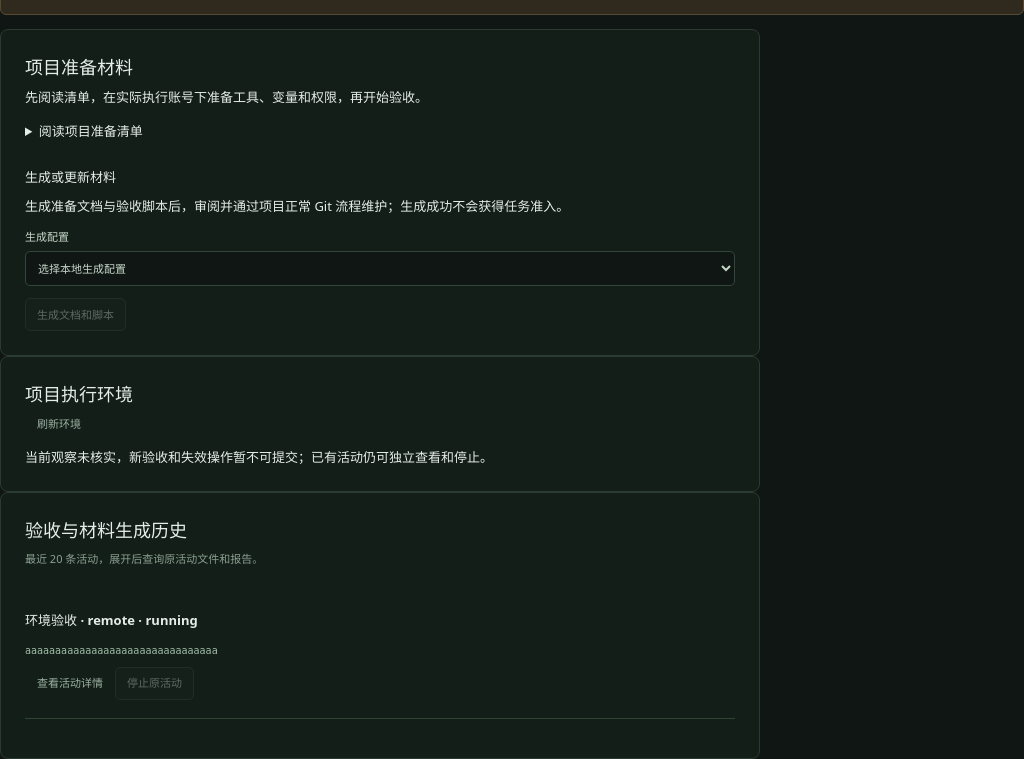
Test: keeps history readable while offline and disables mutations
(page scrolled)
Click the button "查看活动详情".
click(70, 683)  # box [25, 666, 115, 700]
(page scrolled)
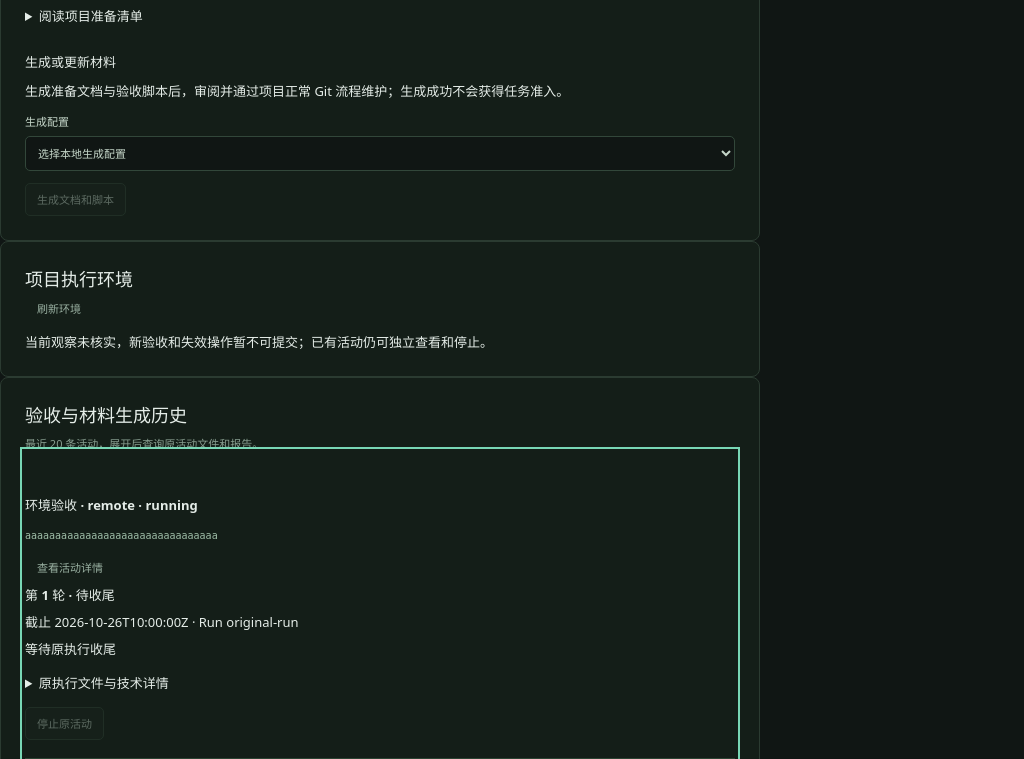
Expected: the button "生成文档和脚本" is disabled, [25, 183, 126, 216]
Now the text "截止 2026-10-26T10:00:00Z · Run original-run" is shown, box [25, 613, 298, 631]
